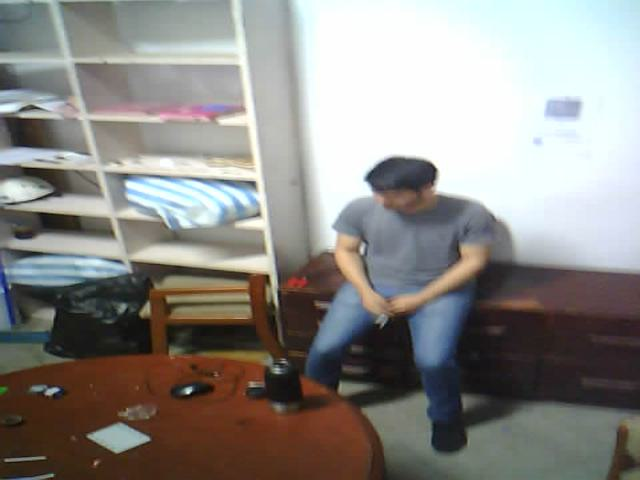person: (291, 127, 510, 471)
